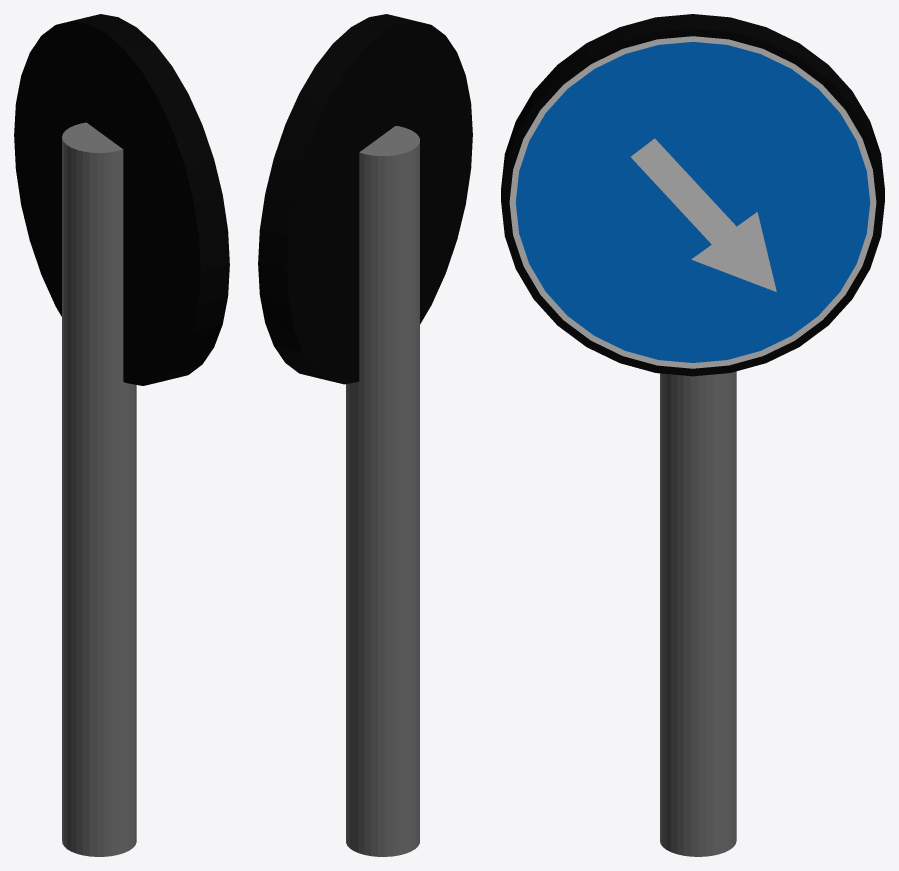
The model's file is keep_right.fbx.
3 renders of one model, left to right at view 1: azimuth 30°, elevation 25°; view 2: azimuth 150°, elevation 25°; view 3: azimuth 270°, elevation 25°, orthographic. The views are drawn at different scales.
Parts seen in each view (by area): view 1: Cylinder, Circle; view 2: Cylinder, Circle; view 3: Circle, Cylinder, Plane.
Boxes of the visible parts, box(x1,y1,x2,y2) form: Cylinder: box(62, 122, 136, 856); Circle: box(14, 14, 229, 385); Cylinder: box(346, 126, 419, 856); Circle: box(258, 14, 472, 384); Circle: box(501, 14, 884, 376); Cylinder: box(660, 371, 736, 856); Plane: box(631, 138, 776, 291).
Bounding box in the file's own units: 2.27 × 23.85 × 10.
